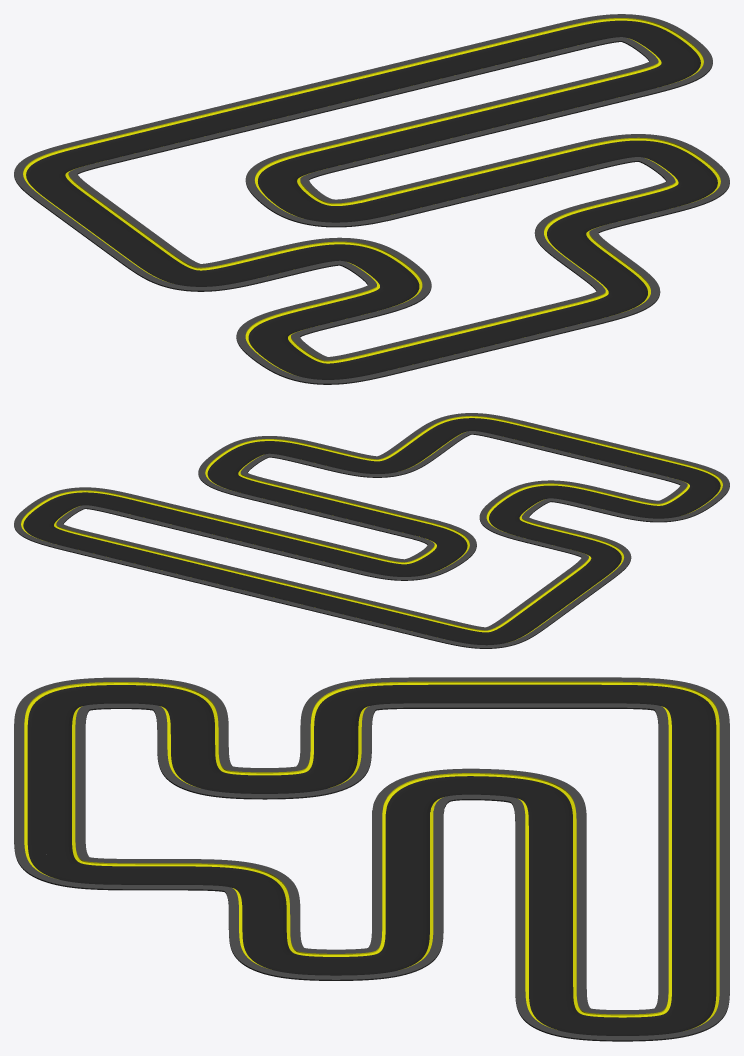
File: CurveRoad.fbx
3 views of the same model, one above another, from view 1: azimuth 30°, elevation 25°; view 2: azimuth 150°, elevation 25°; view 3: azimuth 270°, elevation 25° (orthographic). The views are drawn at different scales.
Parts seen in each view (by area): view 1: Plane; view 2: Plane; view 3: Plane.
Boxes of the visible parts, x1,y1,x2,y2 form: Plane: [14, 14, 729, 384]; Plane: [14, 413, 729, 648]; Plane: [14, 677, 729, 1041].
Size of the model in its own units: 9595 by 31.34 by 8000.
